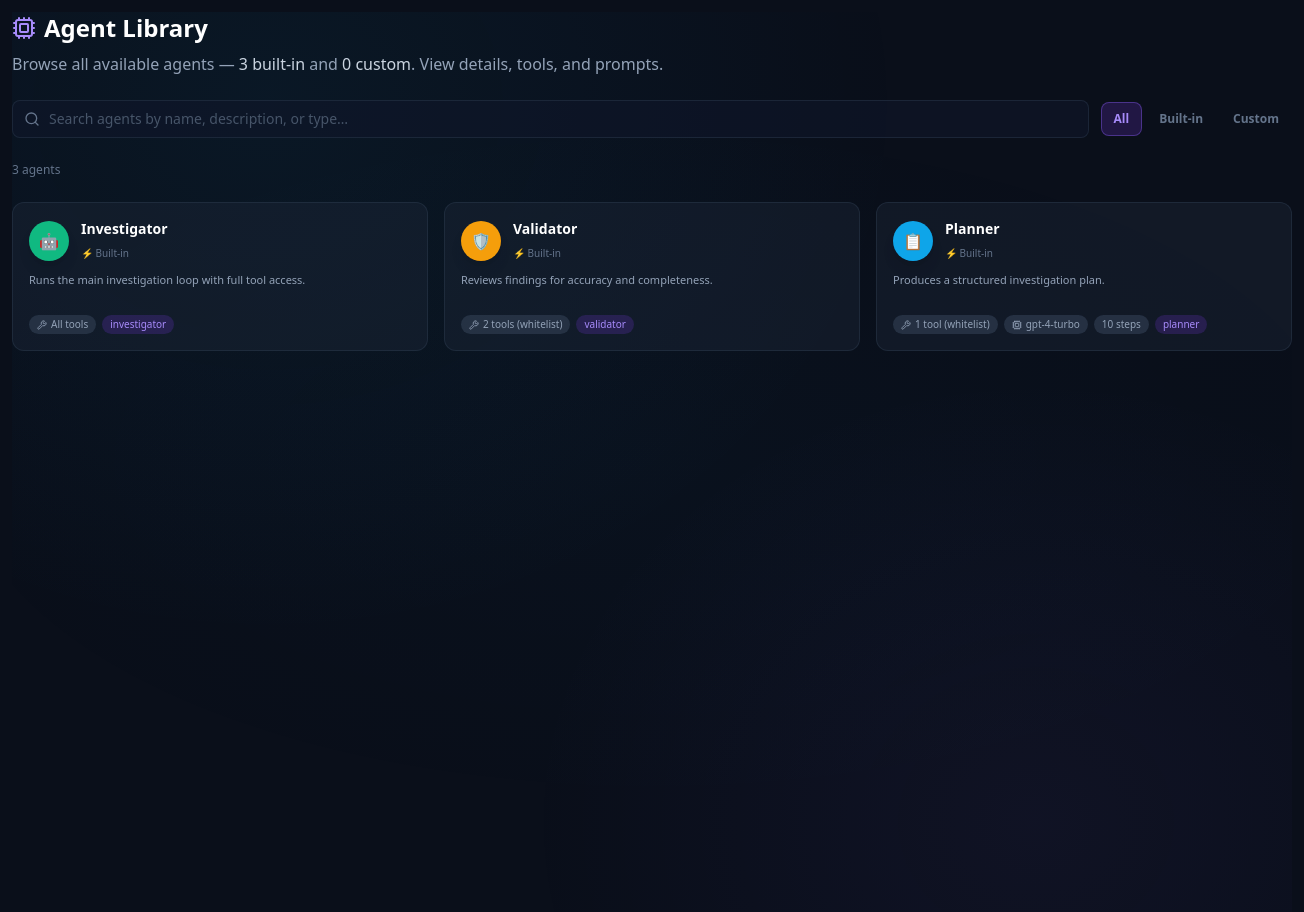
it: AgentLibrary › shows empty state when no agents match search
Type "nonexistent-xyz" into the field with placeholder "Search agents by name, description, or type…" at (550, 119), box [12,100,1089,138]
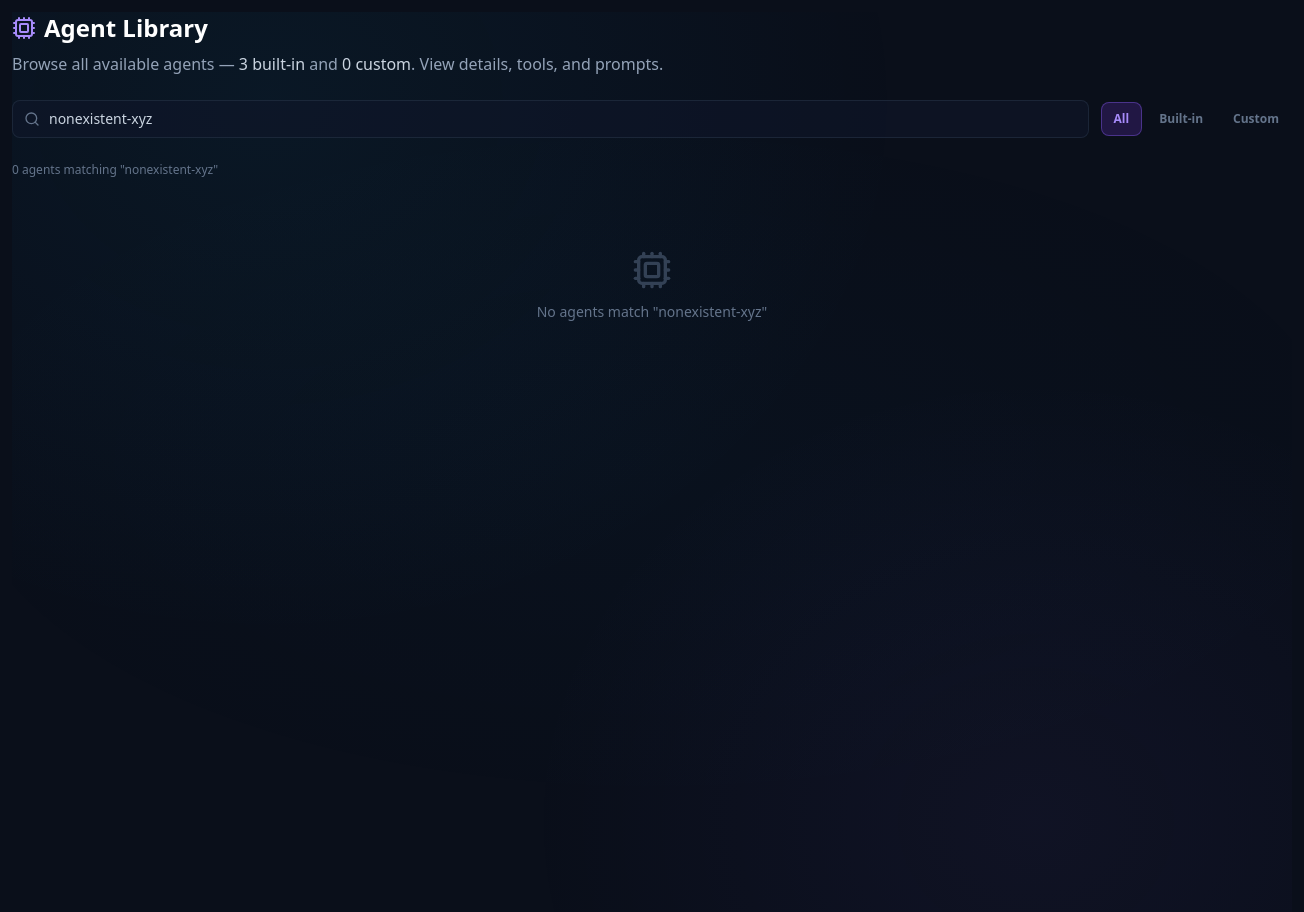
Expected: the text "No agents match \"nonexistent-xyz\"" is shown, [537,302,767,321]
